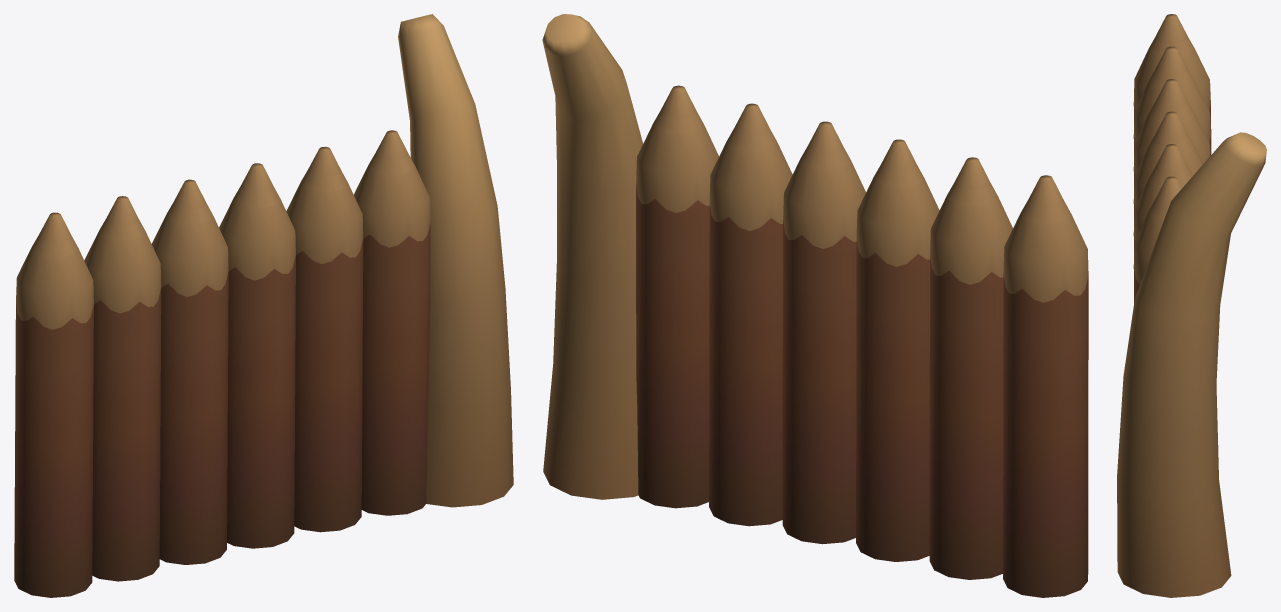
The model's file is Fence_2.fbx.
3 views of the same model, side by side, from view 1: azimuth 30°, elevation 25°; view 2: azimuth 150°, elevation 25°; view 3: azimuth 270°, elevation 25° (orthographic). The views are drawn at different scales.
Parts seen in each view (by area): view 1: Fence_2; view 2: Fence_2; view 3: Fence_2.
Part boxes in pixels (bbox=[...]): Fence_2: bbox=[14, 14, 513, 597]; Fence_2: bbox=[542, 14, 1088, 597]; Fence_2: bbox=[1117, 14, 1266, 597].
Bounding box in the file's own units: 210 × 184 × 56.76.
